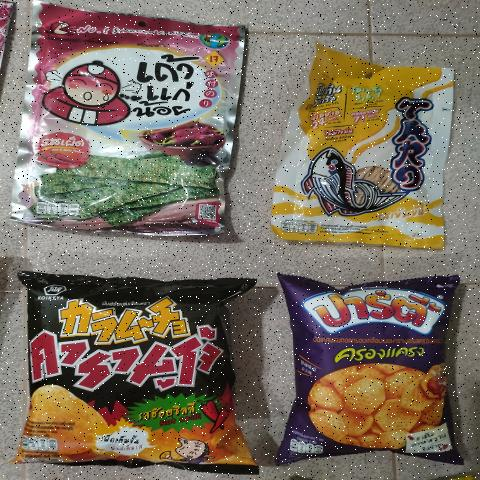karamujo: (32, 280, 237, 465)
party_purple: (285, 284, 456, 450)
taokaenoi: (33, 16, 240, 235)
taro_yellow: (276, 62, 458, 234)
